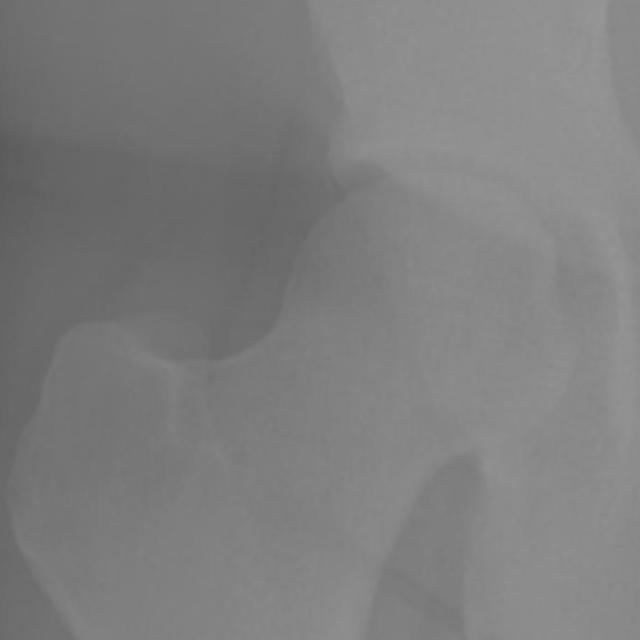Fitted_femural_head: (294, 172, 432, 294)
